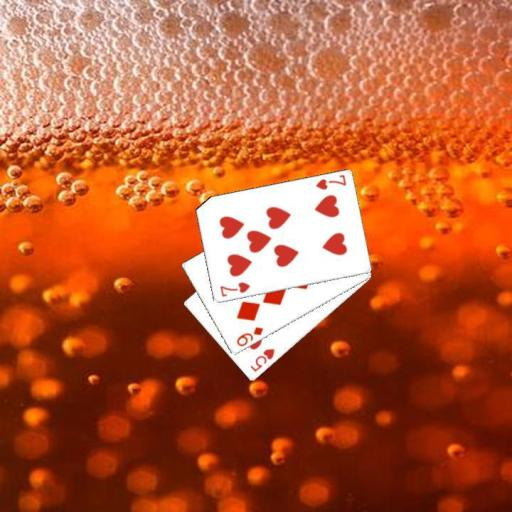5H: (247, 346, 276, 373)
7H: (216, 279, 252, 299), (313, 172, 348, 192)
9D: (233, 324, 265, 349)
